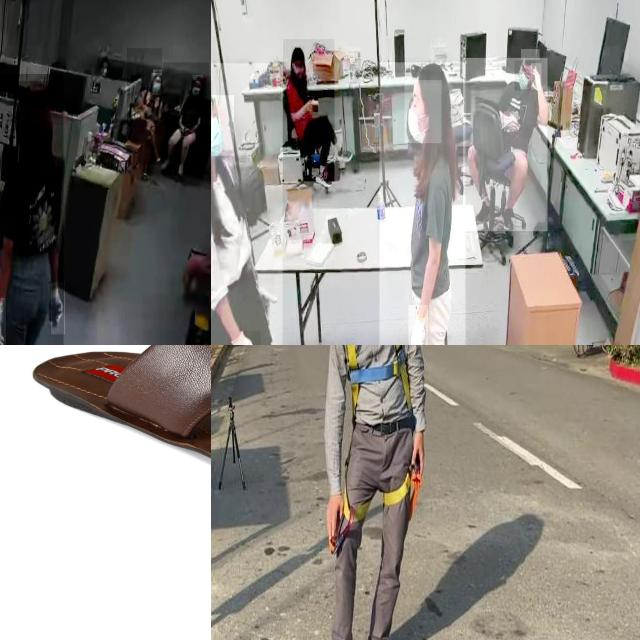Harness: (329, 465, 420, 556), (346, 345, 412, 414)
Sandals: (31, 345, 211, 500)
face_mask: (404, 80, 442, 143), (211, 95, 234, 155), (514, 60, 536, 90), (192, 78, 206, 102), (152, 73, 162, 95)
face_nomask: (292, 60, 304, 80)
hand_glove: (408, 305, 428, 345), (51, 282, 65, 335), (228, 330, 261, 345), (0, 297, 6, 345)
hand_noglove: (504, 111, 518, 132), (531, 63, 541, 90), (304, 97, 318, 112), (184, 126, 192, 136), (180, 124, 186, 137)
head_nohelmet: (16, 81, 50, 107), (412, 61, 446, 84), (521, 49, 540, 60), (292, 46, 304, 58), (192, 75, 204, 81), (153, 70, 163, 76)
person: (379, 62, 466, 345), (211, 63, 283, 345), (0, 73, 64, 345), (463, 58, 548, 232), (283, 39, 335, 182), (162, 62, 210, 176), (127, 48, 163, 166)
